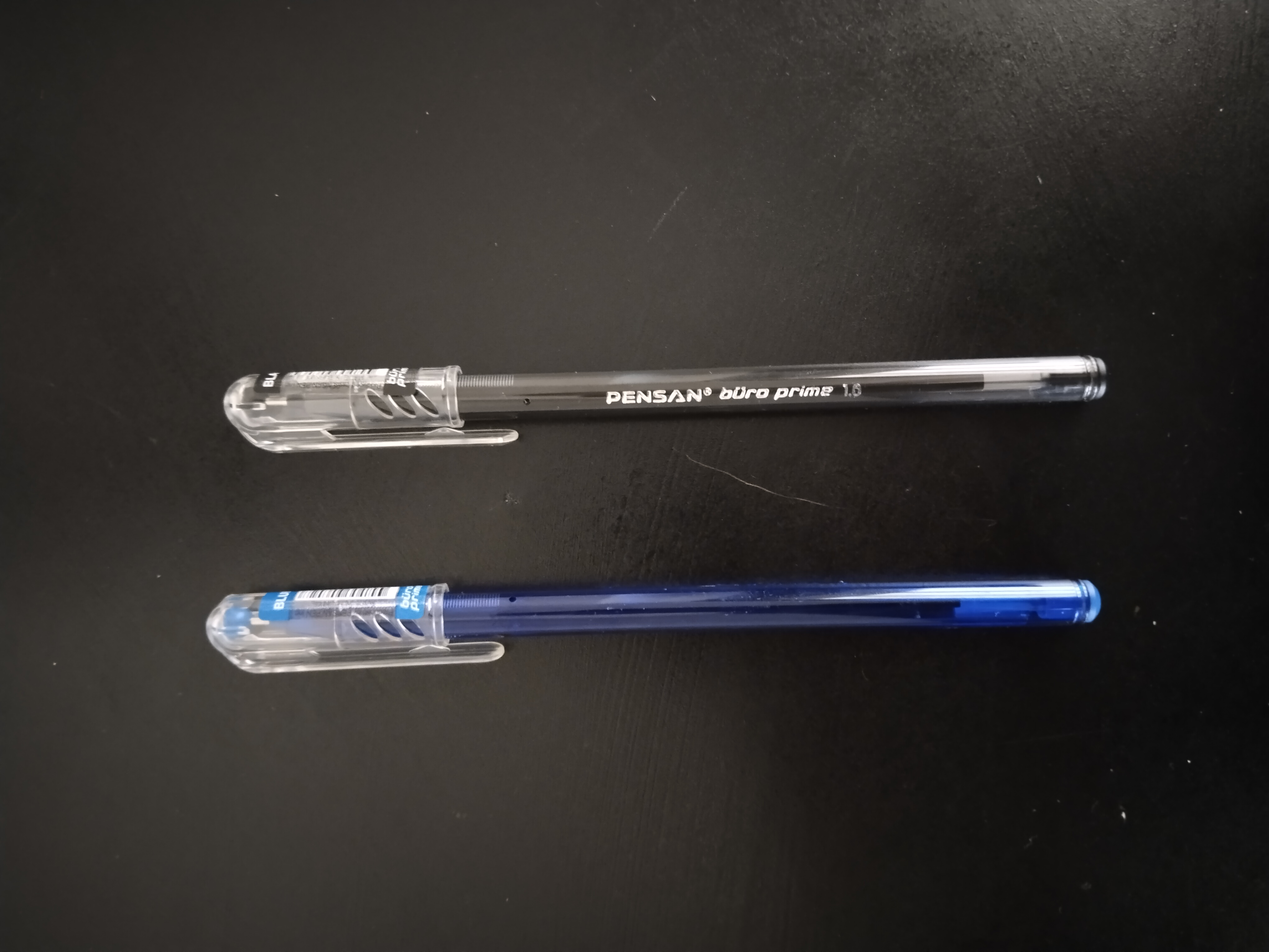pensan_mavi_tukenmez_kalem: (207, 580, 1100, 672)
pensan_siyah_tukenmez_kalem: (224, 356, 1107, 452)
